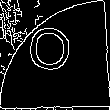O_S: (32, 28, 78, 82)
